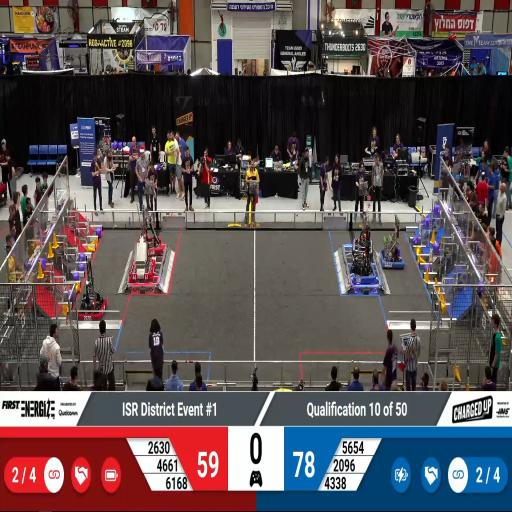robot: (78, 270, 108, 320), (136, 206, 164, 256), (380, 223, 406, 273), (347, 250, 377, 286), (130, 241, 156, 282), (351, 219, 375, 262)
